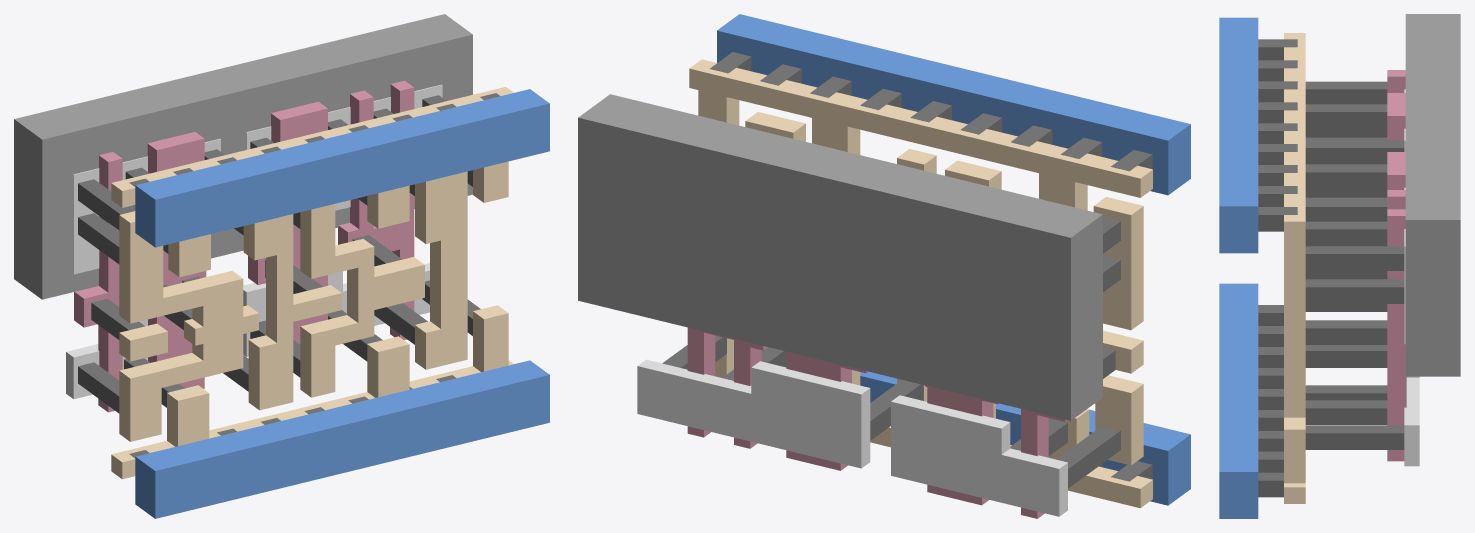
The model's file is sky130_fd_sc_hd__clkdlybuf4s50_2.gds.gltf.
3 views of the same model, side by side, from view 1: azimuth 30°, elevation 25°; view 2: azimuth 150°, elevation 25°; view 3: azimuth 270°, elevation 25° (orthographic). The views are drawn at different scales.
Visible parts, largest first — view 1: sky130_fd_sc_hd__clkdlybuf4s50_2_li1, sky130_fd_sc_hd__clkdlybuf4s50_2_met1, sky130_fd_sc_hd__clkdlybuf4s50_2_nwell, sky130_fd_sc_hd__clkdlybuf4s50_2_poly, sky130_fd_sc_hd__clkdlybuf4s50_2_licon, sky130_fd_sc_hd__clkdlybuf4s50_2_diff, sky130_fd_sc_hd__clkdlybuf4s50_2_mcon; view 2: sky130_fd_sc_hd__clkdlybuf4s50_2_nwell, sky130_fd_sc_hd__clkdlybuf4s50_2_li1, sky130_fd_sc_hd__clkdlybuf4s50_2_diff, sky130_fd_sc_hd__clkdlybuf4s50_2_met1, sky130_fd_sc_hd__clkdlybuf4s50_2_poly, sky130_fd_sc_hd__clkdlybuf4s50_2_licon, sky130_fd_sc_hd__clkdlybuf4s50_2_mcon; view 3: sky130_fd_sc_hd__clkdlybuf4s50_2_licon, sky130_fd_sc_hd__clkdlybuf4s50_2_nwell, sky130_fd_sc_hd__clkdlybuf4s50_2_met1, sky130_fd_sc_hd__clkdlybuf4s50_2_mcon, sky130_fd_sc_hd__clkdlybuf4s50_2_li1, sky130_fd_sc_hd__clkdlybuf4s50_2_poly, sky130_fd_sc_hd__clkdlybuf4s50_2_diff.
Boxes of the visible parts, x1=… form: sky130_fd_sc_hd__clkdlybuf4s50_2_li1: x1=111, y1=86, x2=513, y2=479; sky130_fd_sc_hd__clkdlybuf4s50_2_met1: x1=135, y1=89, x2=549, y2=518; sky130_fd_sc_hd__clkdlybuf4s50_2_nwell: x1=14, y1=14, x2=472, y2=299; sky130_fd_sc_hd__clkdlybuf4s50_2_poly: x1=74, y1=80, x2=414, y2=412; sky130_fd_sc_hd__clkdlybuf4s50_2_licon: x1=78, y1=95, x2=480, y2=413; sky130_fd_sc_hd__clkdlybuf4s50_2_diff: x1=66, y1=84, x2=442, y2=399; sky130_fd_sc_hd__clkdlybuf4s50_2_mcon: x1=129, y1=93, x2=500, y2=457; sky130_fd_sc_hd__clkdlybuf4s50_2_nwell: x1=578, y1=94, x2=1102, y2=420; sky130_fd_sc_hd__clkdlybuf4s50_2_li1: x1=689, y1=59, x2=1152, y2=508; sky130_fd_sc_hd__clkdlybuf4s50_2_diff: x1=637, y1=359, x2=1067, y2=516; sky130_fd_sc_hd__clkdlybuf4s50_2_met1: x1=717, y1=14, x2=1190, y2=505; sky130_fd_sc_hd__clkdlybuf4s50_2_poly: x1=687, y1=327, x2=1067, y2=518; sky130_fd_sc_hd__clkdlybuf4s50_2_licon: x1=662, y1=217, x2=1120, y2=488; sky130_fd_sc_hd__clkdlybuf4s50_2_mcon: x1=710, y1=52, x2=1152, y2=481; sky130_fd_sc_hd__clkdlybuf4s50_2_licon: x1=1305, y1=81, x2=1404, y2=449; sky130_fd_sc_hd__clkdlybuf4s50_2_nwell: x1=1405, y1=14, x2=1460, y2=376; sky130_fd_sc_hd__clkdlybuf4s50_2_met1: x1=1219, y1=17, x2=1258, y2=518; sky130_fd_sc_hd__clkdlybuf4s50_2_mcon: x1=1258, y1=39, x2=1297, y2=497; sky130_fd_sc_hd__clkdlybuf4s50_2_li1: x1=1284, y1=33, x2=1305, y2=503; sky130_fd_sc_hd__clkdlybuf4s50_2_poly: x1=1387, y1=70, x2=1406, y2=461; sky130_fd_sc_hd__clkdlybuf4s50_2_diff: x1=1404, y1=89, x2=1419, y2=466.
Size of the model in its own units: 4.52 by 3.2 by 2.24.
